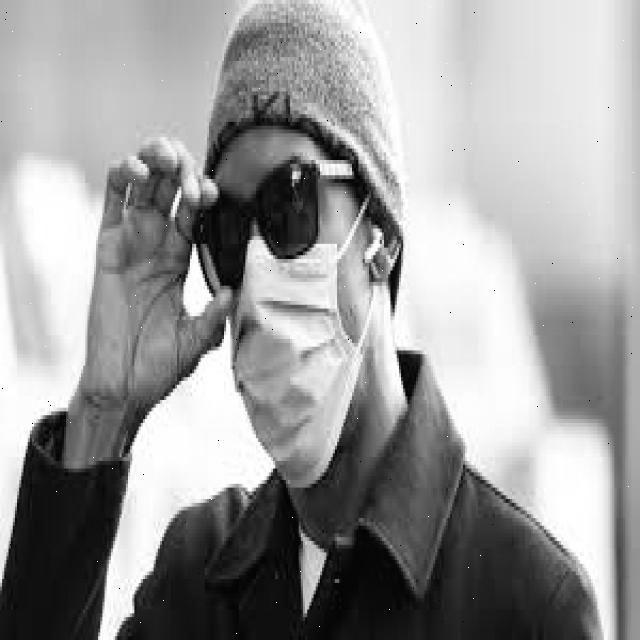fake: (205, 255, 370, 535), (185, 154, 355, 304)
